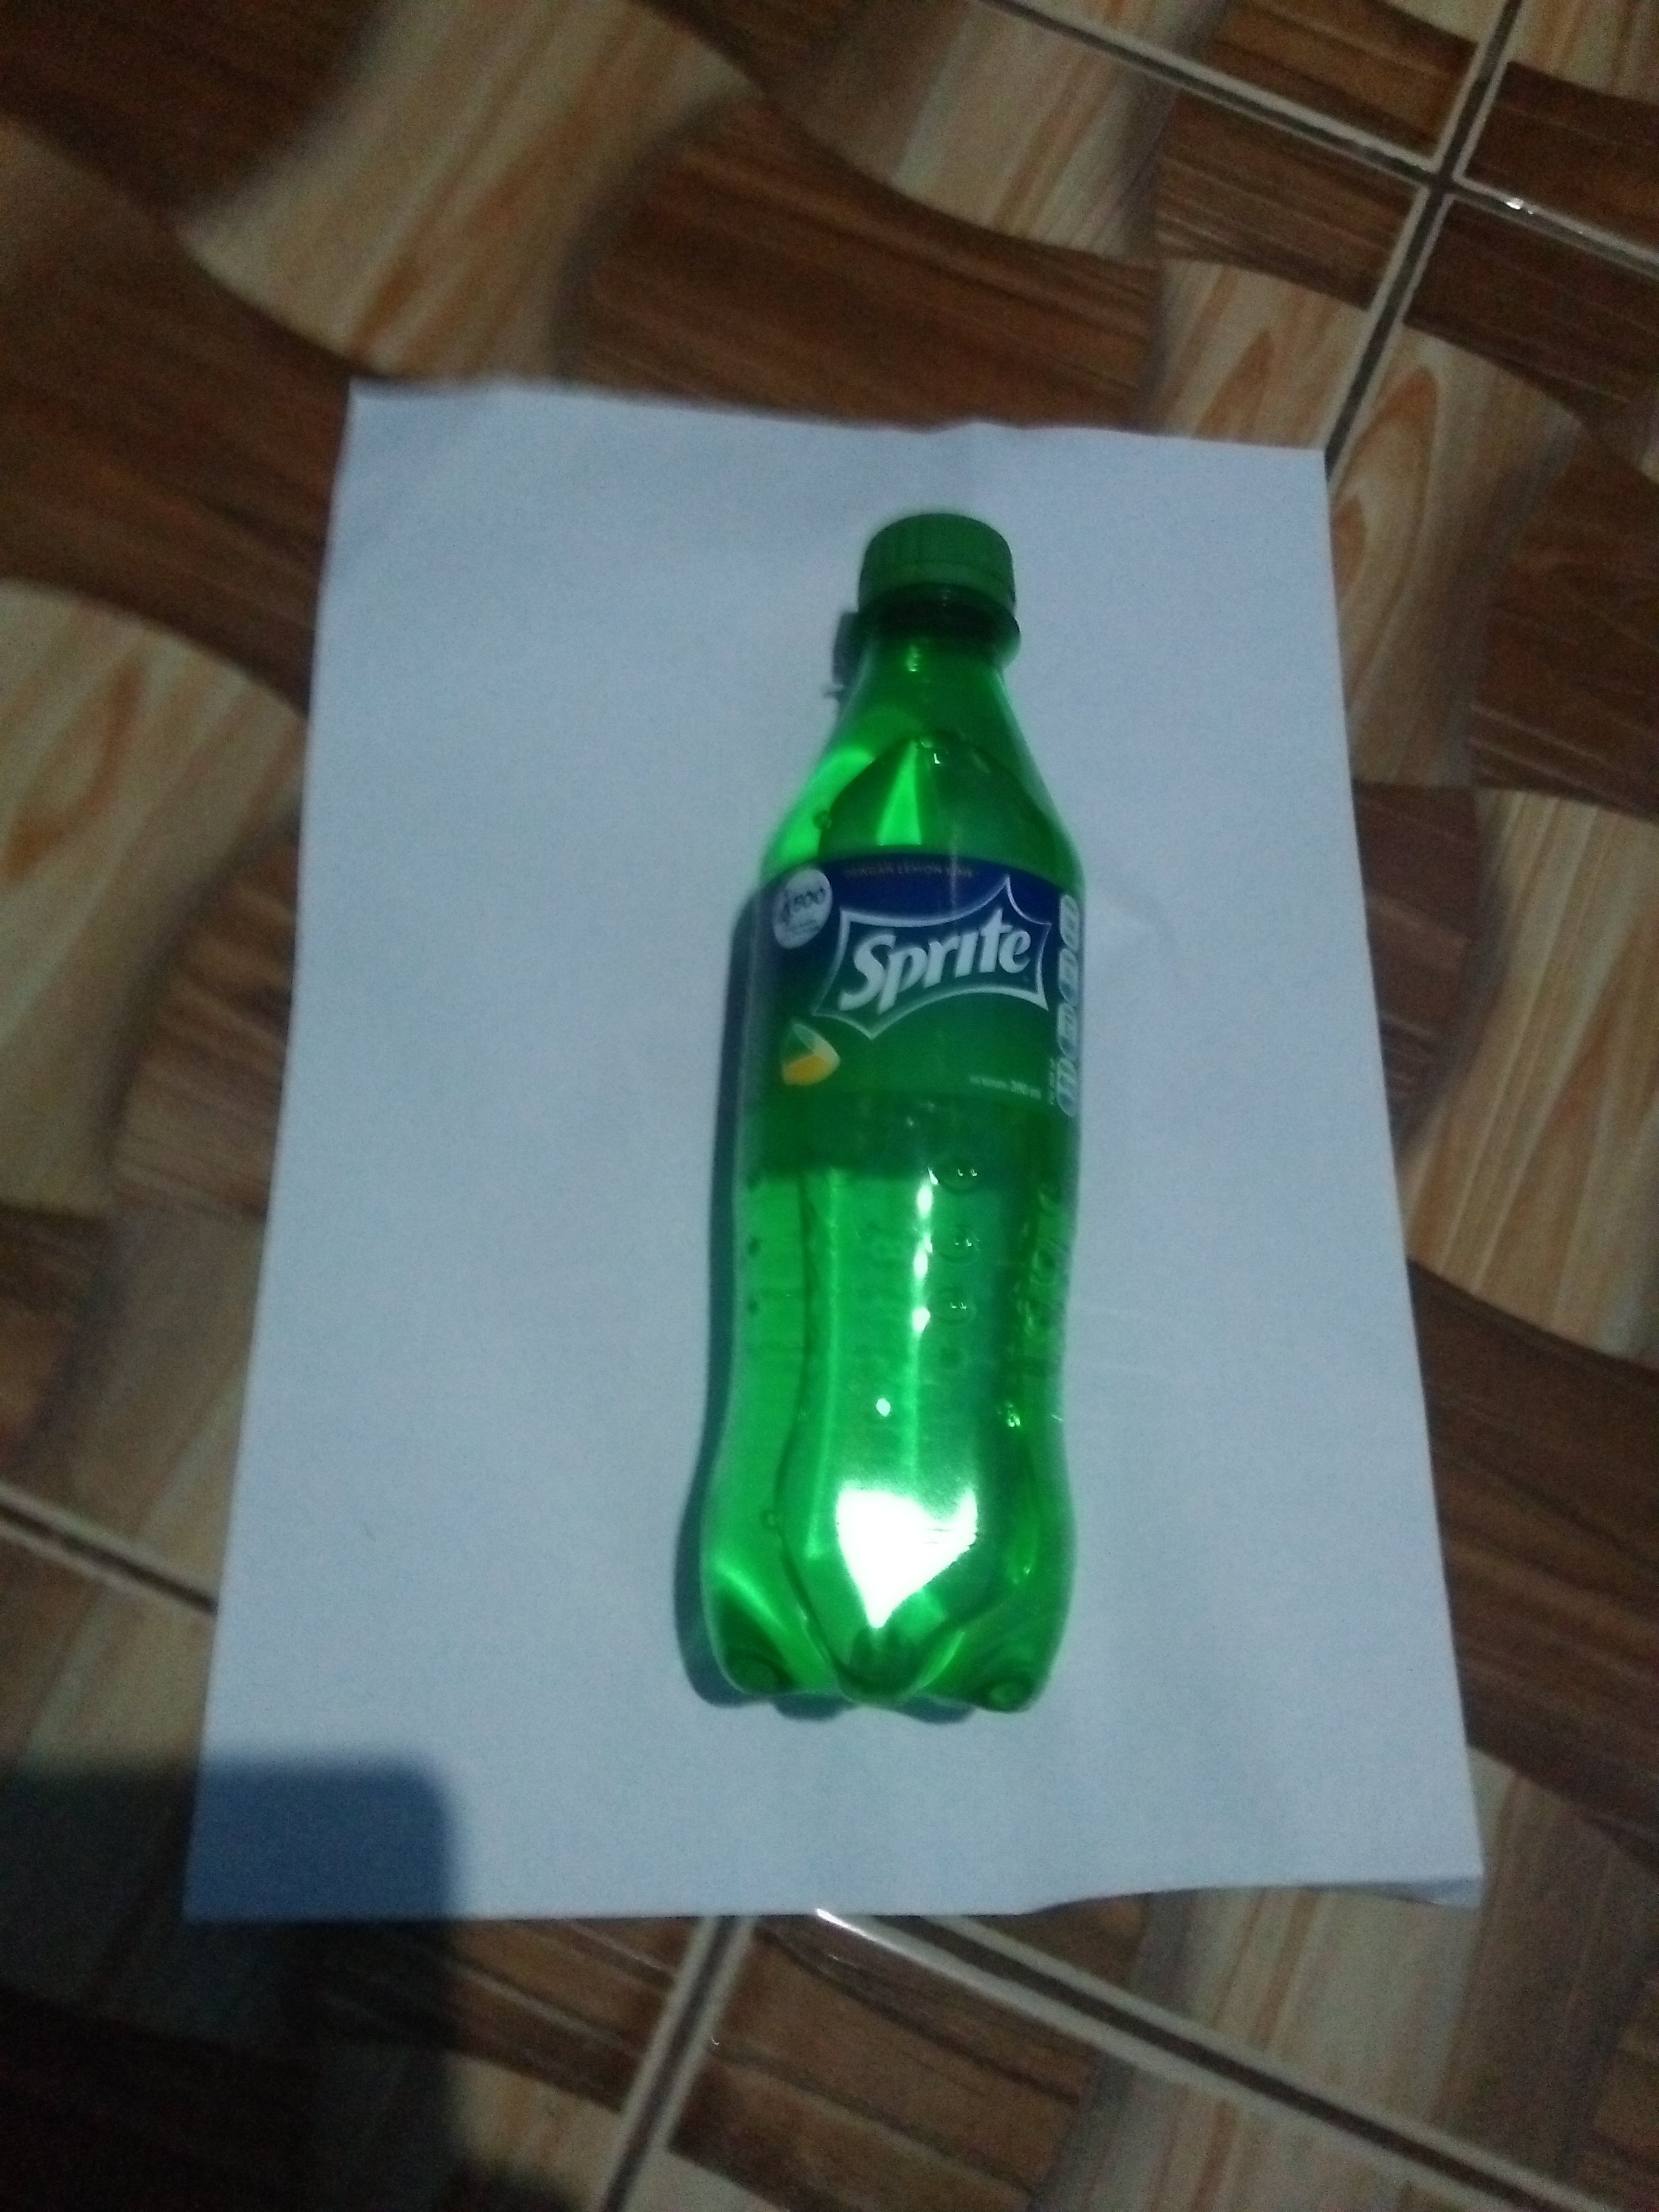Sprite: (676, 495, 1105, 1738)
